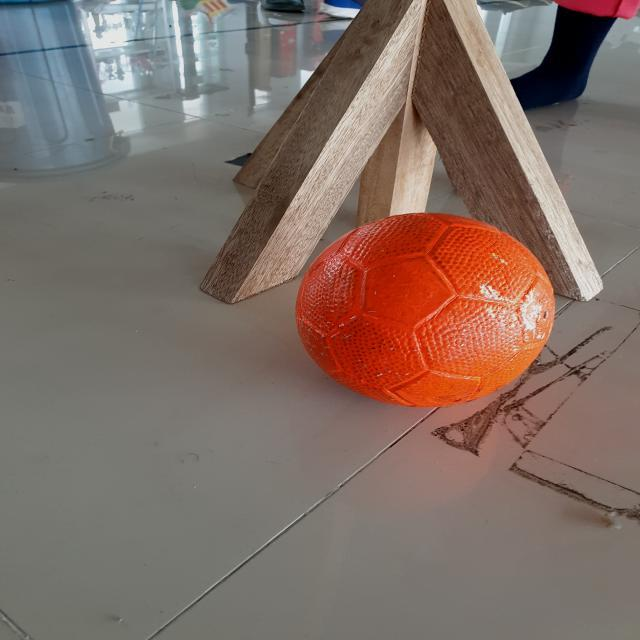bola: (293, 210, 581, 418)
